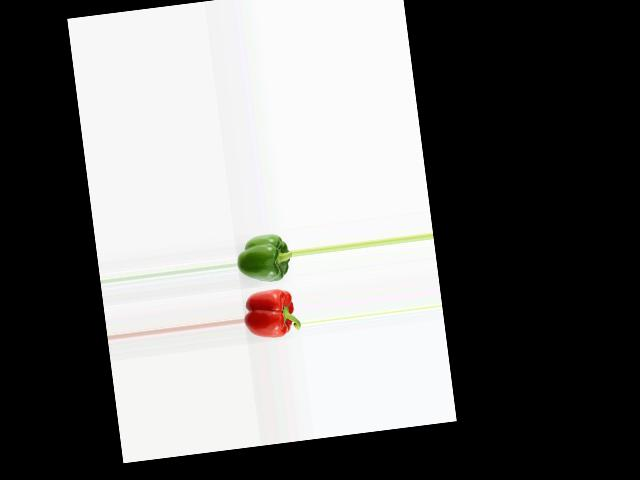bell_pepper: (236, 230, 294, 287)
